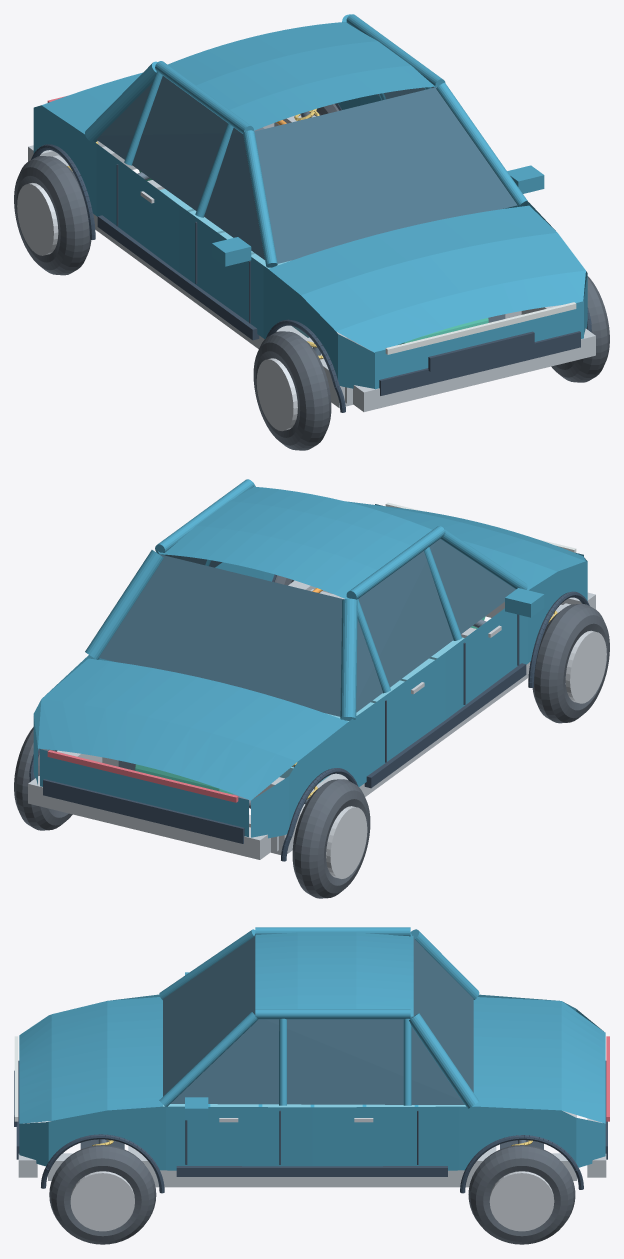
Rendered from EV_Crossover_Education.glb.
3 views of the same model, one above another, from view 1: azimuth 30°, elevation 25°; view 2: azimuth 150°, elevation 25°; view 3: azimuth 270°, elevation 25° (orthographic). The views are drawn at different scales.
Visible parts, largest first — view 1: Body_Windshield, Body_Side_Glass_-1, Front_Left_Tire, Rear_Left_Tire, Body_Front_Fascia, Front_Bumper, Body_Front_Lower_Trim, Body_Sill_-1, Front_Left_Rim, Rear_Left_Rim, Front_Right_Tire, Body_Air_Intake (+52 smaller); view 2: Body_Rear_Glass, Body_Side_Glass_-1, Body_Rear_Fascia, Rear_Left_Tire, Front_Left_Tire, Rear_Bumper, Body_Rear_Lower_Trim, Body_Sill_-1, Front_Left_Rim, Rear_Left_Rim, Rear_Right_Tire, Body_C_Pillar_-1 (+48 smaller); view 3: Body_Side_Glass_1, Body_Windshield, Front_Right_Tire, Rear_Right_Tire, Body_Rear_Glass, Longitudinal_Rail_0.78, Front_Right_Rim, Rear_Right_Rim, Body_Sill_1, Body_Roof_Rail_1, Body_C_Pillar_1, Body_A_Pillar_1 (+55 smaller).
Part boxes in pixels (x1=…): Body_Windshield: x1=254, y1=87, x2=517, y2=263; Body_Side_Glass_-1: x1=96, y1=76, x2=264, y2=259; Front_Left_Tire: x1=253, y1=331, x2=331, y2=450; Rear_Left_Tire: x1=14, y1=156, x2=91, y2=275; Body_Front_Fascia: x1=375, y1=301, x2=583, y2=389; Front_Bumper: x1=353, y1=328, x2=595, y2=411; Body_Front_Lower_Trim: x1=379, y1=331, x2=580, y2=395; Body_Sill_-1: x1=97, y1=215, x2=259, y2=340; Front_Left_Rim: x1=256, y1=358, x2=297, y2=431; Rear_Left_Rim: x1=17, y1=183, x2=58, y2=255; Front_Right_Tire: x1=551, y1=276, x2=609, y2=382; Body_Air_Intake: x1=428, y1=331, x2=534, y2=371; Body_Rear_Glass: x1=99, y1=554, x2=343, y2=716; Body_Side_Glass_-1: x1=356, y1=539, x2=515, y2=712; Body_Rear_Fascia: x1=40, y1=749, x2=248, y2=837; Rear_Left_Tire: x1=292, y1=779, x2=370, y2=898; Front_Left_Tire: x1=532, y1=603, x2=609, y2=723; Rear_Bumper: x1=28, y1=776, x2=270, y2=859; Body_Rear_Lower_Trim: x1=43, y1=779, x2=244, y2=843; Body_Sill_-1: x1=364, y1=663, x2=526, y2=788; Front_Left_Rim: x1=565, y1=630, x2=606, y2=703; Rear_Left_Rim: x1=326, y1=806, x2=367, y2=878; Rear_Right_Tire: x1=14, y1=727, x2=72, y2=830; Body_C_Pillar_-1: x1=340, y1=598, x2=357, y2=720; Body_Side_Glass_1: x1=170, y1=1017, x2=464, y2=1104; Body_Windshield: x1=163, y1=934, x2=255, y2=1096; Front_Right_Tire: x1=49, y1=1145, x2=156, y2=1244; Rear_Right_Tire: x1=468, y1=1145, x2=575, y2=1244; Body_Rear_Glass: x1=413, y1=936, x2=473, y2=1092; Longitudinal_Rail_0.78: x1=51, y1=1153, x2=573, y2=1187; Front_Right_Rim: x1=70, y1=1171, x2=134, y2=1231; Rear_Right_Rim: x1=489, y1=1171, x2=554, y2=1231; Body_Sill_1: x1=176, y1=1166, x2=447, y2=1176; Body_Roof_Rail_1: x1=255, y1=1009, x2=410, y2=1019; Body_C_Pillar_1: x1=409, y1=1013, x2=478, y2=1108; Body_A_Pillar_1: x1=159, y1=1012, x2=258, y2=1106.
Size of the model in its own units: 2.2 by 1.65 by 4.07.
